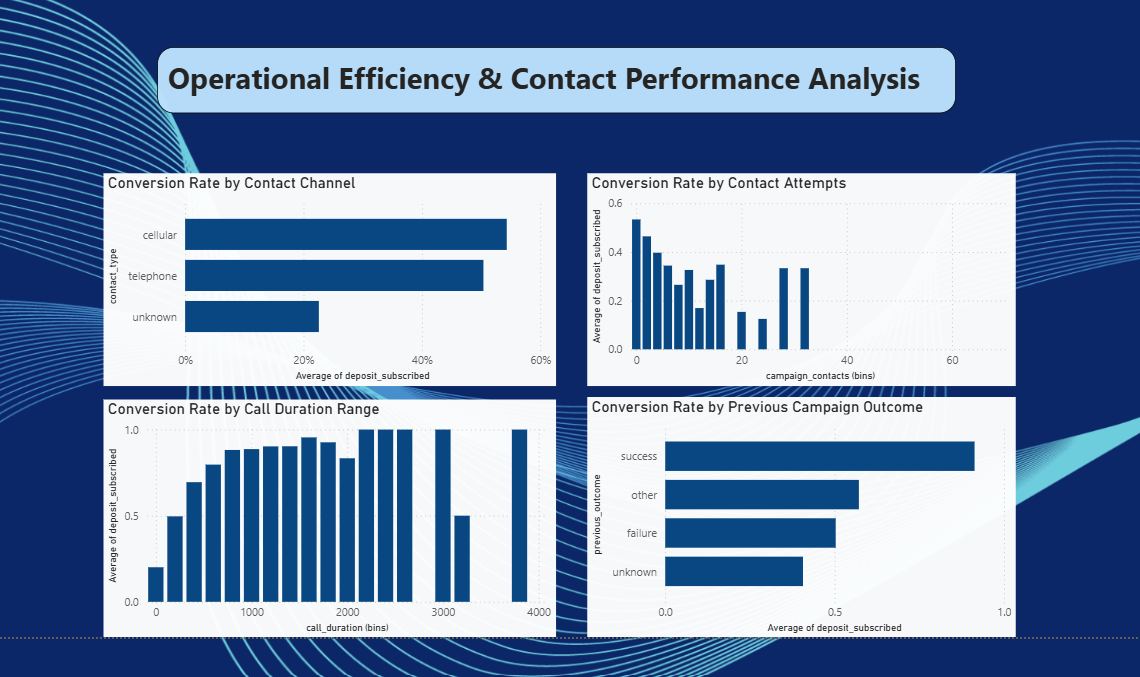

This screenshot's page, from the dashboard's own definition file:
{"tool":"powerbi","page":{"name":"Campaign Operations ","canvas":[1280,720],"ordinal":2},"visuals":[{"type":"textbox","box":[188,71.4,876.8,72.7],"z":0},{"type":"clusteredBarChart","title":"Conversion Rate by Contact Channel","fields":{"Category":["final_banking_report.contact_type"],"Y":["Avg(final_banking_report.deposit_subscribed)"]},"box":[129,209.9,496.7,233.3],"z":1},{"type":"clusteredColumnChart","title":"Conversion Rate by Contact Attempts","fields":{"Category":["final_banking_report.campaign_contacts (bins)"],"Y":["Avg(final_banking_report.deposit_subscribed)"]},"box":[660,209.9,470.7,233.3],"z":2},{"type":"clusteredColumnChart","title":"Conversion Rate by Call Duration Range","fields":{"Category":["final_banking_report.call_duration (bins)"],"Y":["Avg(final_banking_report.deposit_subscribed)"]},"box":[129,458.3,496.7,262.1],"z":3},{"type":"clusteredBarChart","title":"Conversion Rate by Previous Campaign Outcome","fields":{"Category":["final_banking_report.previous_outcome"],"Y":["Avg(final_banking_report.deposit_subscribed)"]},"box":[660,455.6,470.7,264.8],"z":4}]}

Visuals, with their boxes in screenshot pixels (x1, y1, x2, y2):
textbox: <box>153,44,952,110</box>
"Conversion Rate by Contact Channel" clusteredBarChart: <box>100,170,552,383</box>
"Conversion Rate by Contact Attempts" clusteredColumnChart: <box>583,170,1012,383</box>
"Conversion Rate by Call Duration Range" clusteredColumnChart: <box>100,397,552,635</box>
"Conversion Rate by Previous Campaign Outcome" clusteredBarChart: <box>583,394,1012,635</box>
